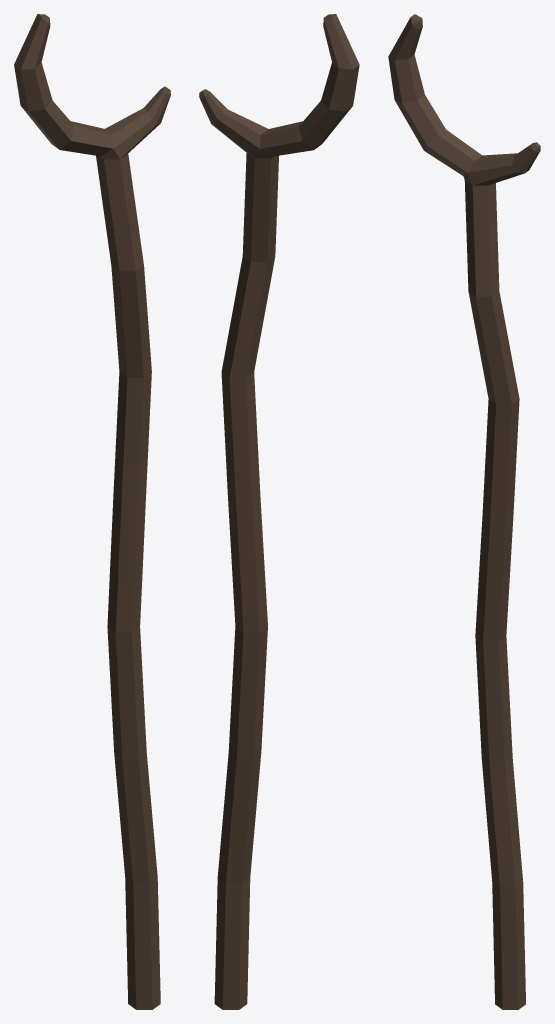
Rendered from Staff.fbx.
3 views of the same model, side by side, from view 1: azimuth 30°, elevation 25°; view 2: azimuth 150°, elevation 25°; view 3: azimuth 330°, elevation 25° (orthographic). The views are drawn at different scales.
Visible parts, largest first — view 1: Staff; view 2: Staff; view 3: Staff.
Part boxes in pixels (x1,y1,x2,y2): Staff: [14, 14, 170, 1009]; Staff: [199, 14, 359, 1009]; Staff: [388, 14, 540, 1009].
Bounding box in the file's own units: 36.1 × 227 × 9.32.
